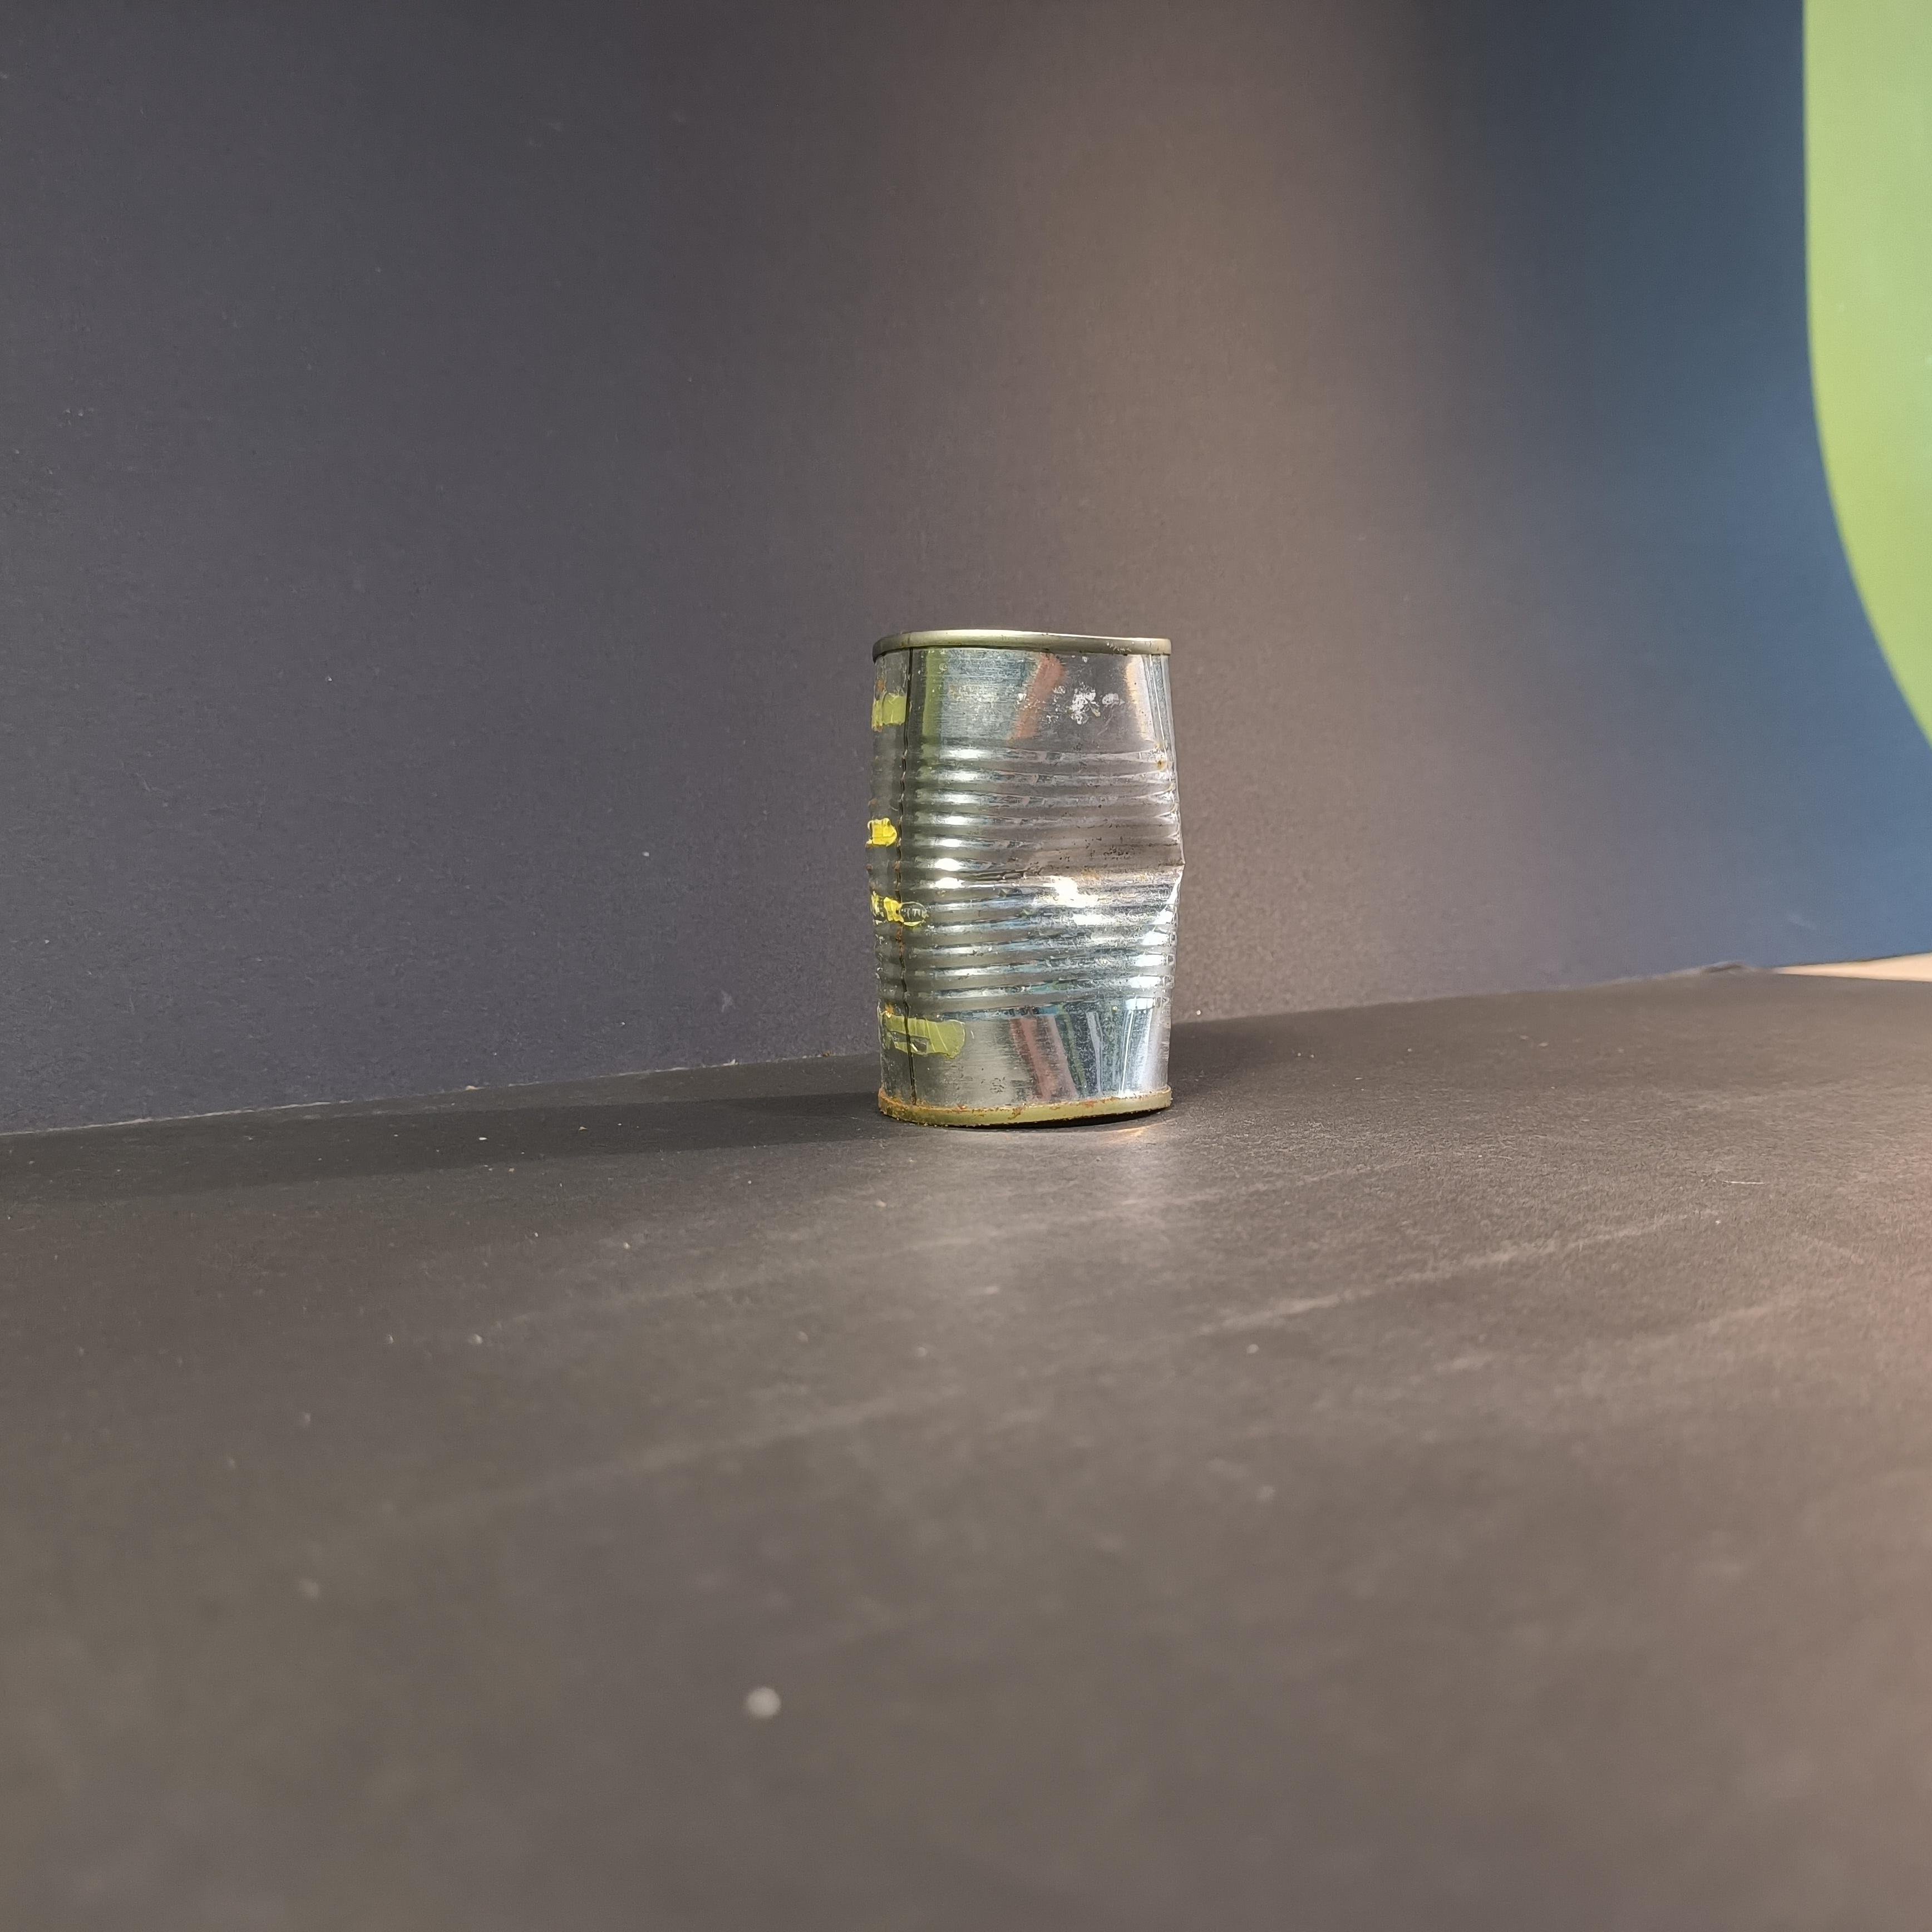Dented: (842, 602, 1219, 1143)
